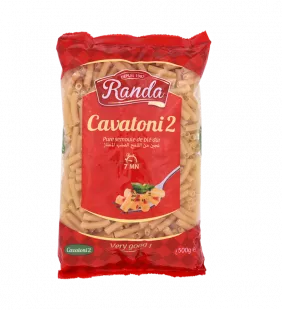RANDA: (50, 19, 221, 285)
